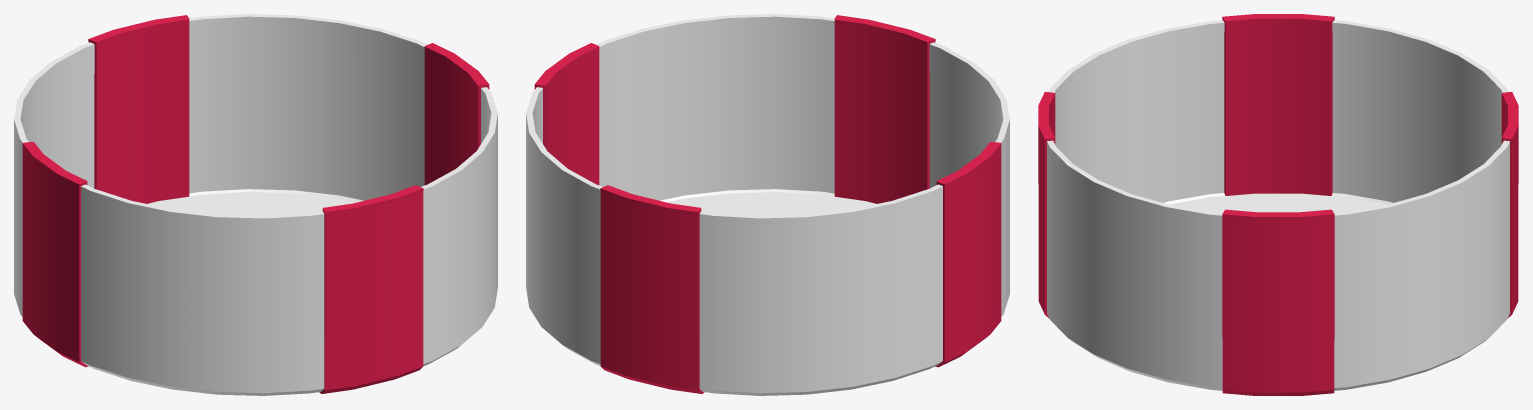
The model's file is Present5.fbx.
3 renders of one model, left to right at view 1: azimuth 30°, elevation 25°; view 2: azimuth 150°, elevation 25°; view 3: azimuth 270°, elevation 25°, orthographic.
Parts seen in each view (by area): view 1: Present5; view 2: Present5; view 3: Present5.
Boxes of the visible parts, bbox=[...] form: Present5: bbox=[14, 14, 497, 395]; Present5: bbox=[526, 14, 1009, 395]; Present5: bbox=[1038, 14, 1518, 395].
Bounding box in the file's own units: 0.3015 × 0.1263 × 0.3015.
